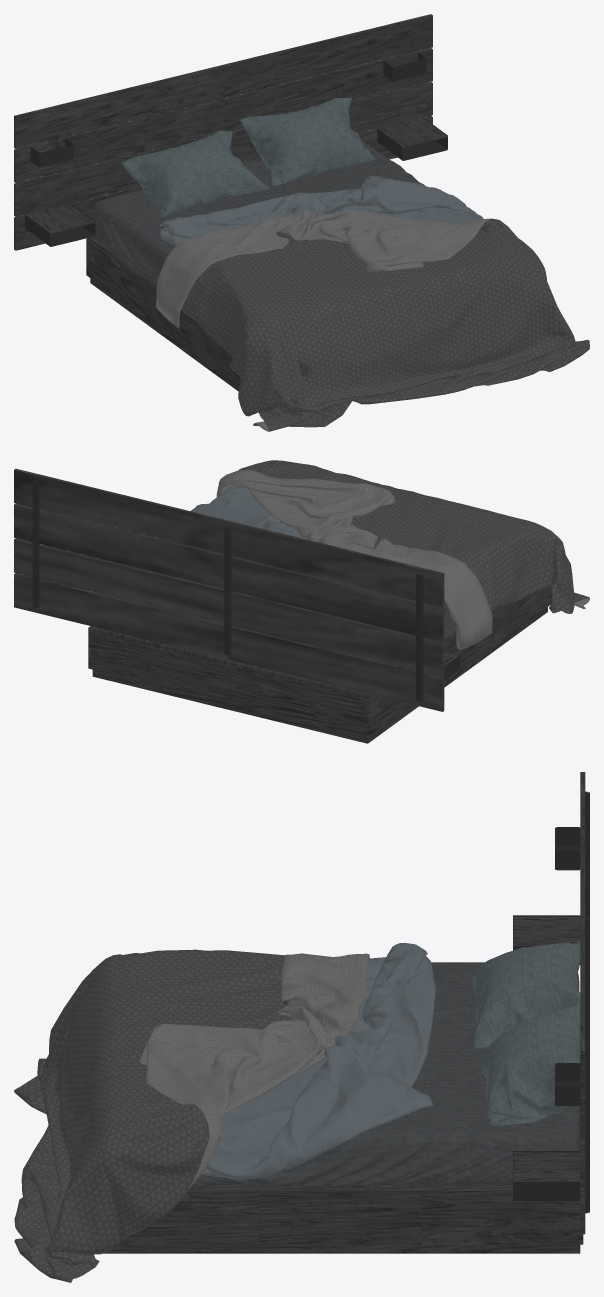
File: messy_bed_2_with_wall_mounted_backboard.glb
3 renders of one model, top to bottom at view 1: azimuth 30°, elevation 25°; view 2: azimuth 150°, elevation 25°; view 3: azimuth 270°, elevation 25°, orthographic. The views are drawn at different scales.
Parts seen in each view (by area): view 1: Nordli_Cover_Low, Nordli_Frame_Low, Nordli_Pillows_Low, Nordli_Sheet_Low, Nordli_Comforter_Low, Nordli_Shelves; view 2: Nordli_Frame_Low, Nordli_Cover_Low, Nordli_Comforter_Low, Nordli_Shelves; view 3: Nordli_Cover_Low, Nordli_Frame_Low, Nordli_Comforter_Low, Nordli_Sheet_Low, Nordli_Pillows_Low, Nordli_Shelves.
Part boxes in pixels (x1=…): Nordli_Cover_Low: x1=156, y1=209, x2=589, y2=431; Nordli_Frame_Low: x1=14, y1=14, x2=432, y2=391; Nordli_Pillows_Low: x1=121, y1=97, x2=375, y2=217; Nordli_Sheet_Low: x1=93, y1=140, x2=424, y2=285; Nordli_Comforter_Low: x1=159, y1=176, x2=483, y2=245; Nordli_Shelves: x1=24, y1=52, x2=447, y2=246; Nordli_Frame_Low: x1=14, y1=468, x2=552, y2=743; Nordli_Cover_Low: x1=216, y1=460, x2=589, y2=649; Nordli_Comforter_Low: x1=190, y1=485, x2=303, y2=538; Nordli_Shelves: x1=24, y1=575, x2=460, y2=680; Nordli_Cover_Low: x1=14, y1=949, x2=369, y2=1282; Nordli_Frame_Low: x1=104, y1=772, x2=589, y2=1253; Nordli_Comforter_Low: x1=201, y1=943, x2=435, y2=1179; Nordli_Sheet_Low: x1=191, y1=962, x2=579, y2=1188; Nordli_Pillows_Low: x1=471, y1=940, x2=580, y2=1126; Nordli_Shelves: x1=513, y1=827, x2=580, y2=1200.
Size of the model in its own units: 2.08 by 0.8777 by 1.81.
Materials: 2 (2 with a texture image).
